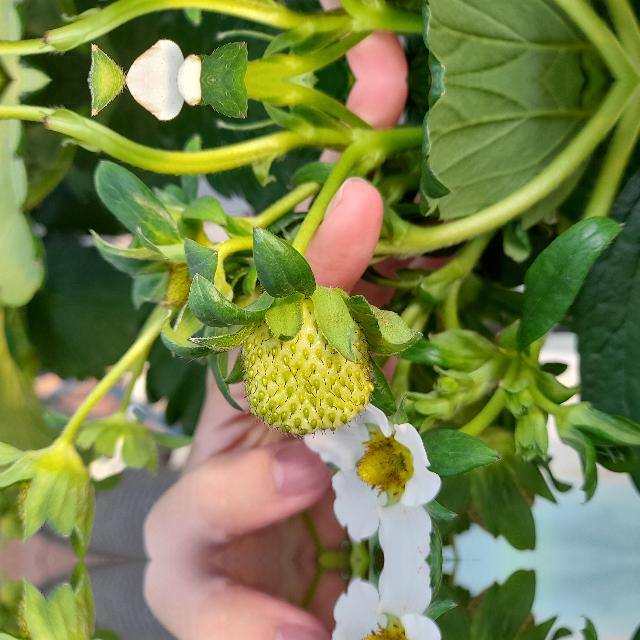Health_25: (240, 297, 374, 435)
